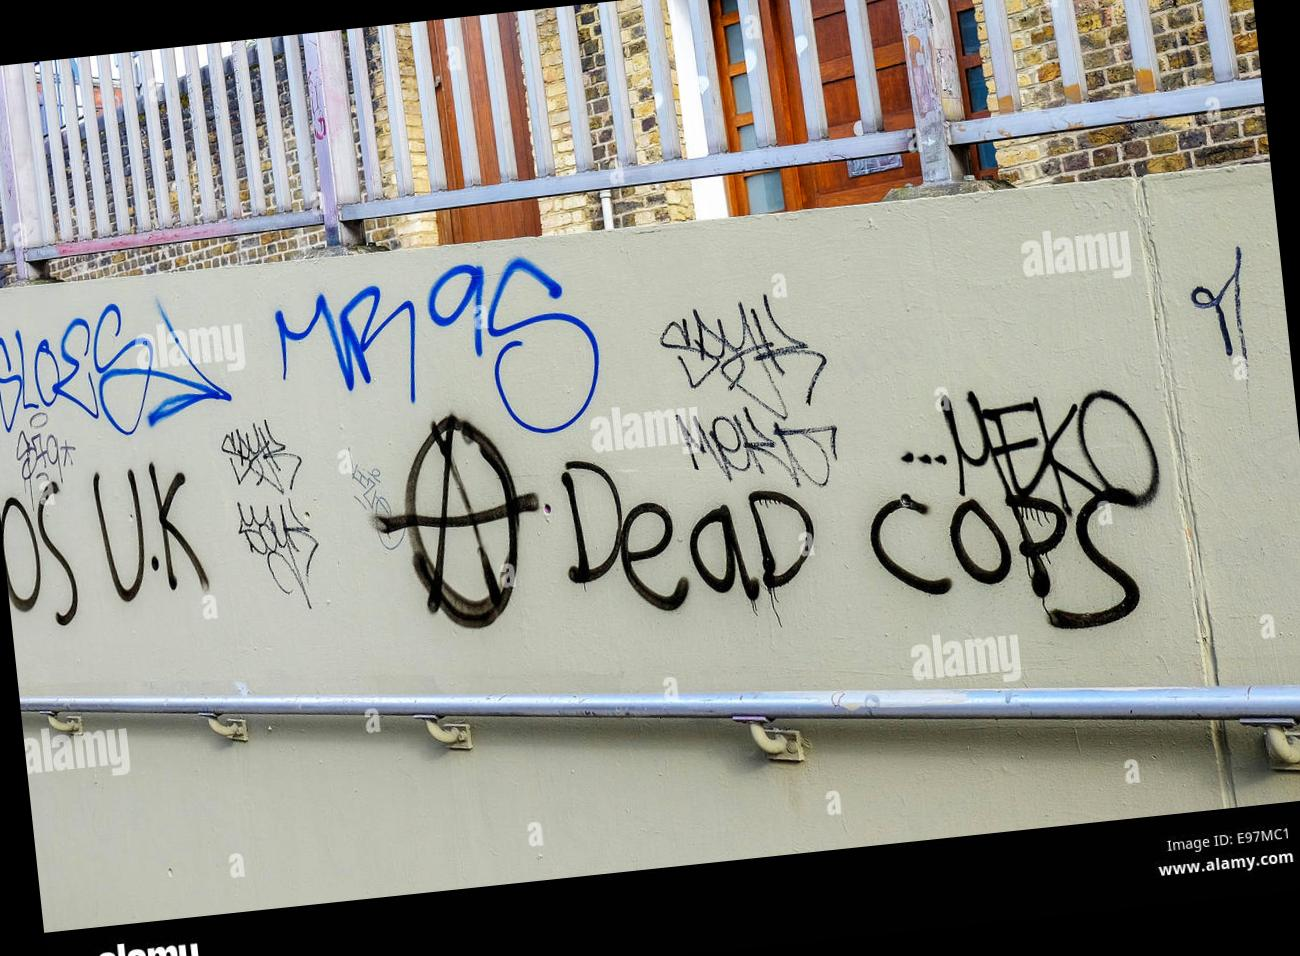graffiti: (944, 392, 1140, 628), (373, 413, 548, 627), (660, 296, 838, 486), (0, 303, 231, 435), (425, 258, 600, 433), (562, 461, 687, 610), (222, 420, 319, 609), (276, 286, 421, 402), (92, 464, 209, 602), (0, 483, 79, 625), (1190, 247, 1249, 384), (870, 494, 950, 594), (689, 506, 758, 605), (751, 492, 813, 598), (951, 500, 1011, 583), (16, 432, 75, 473), (197, 325, 242, 358)
